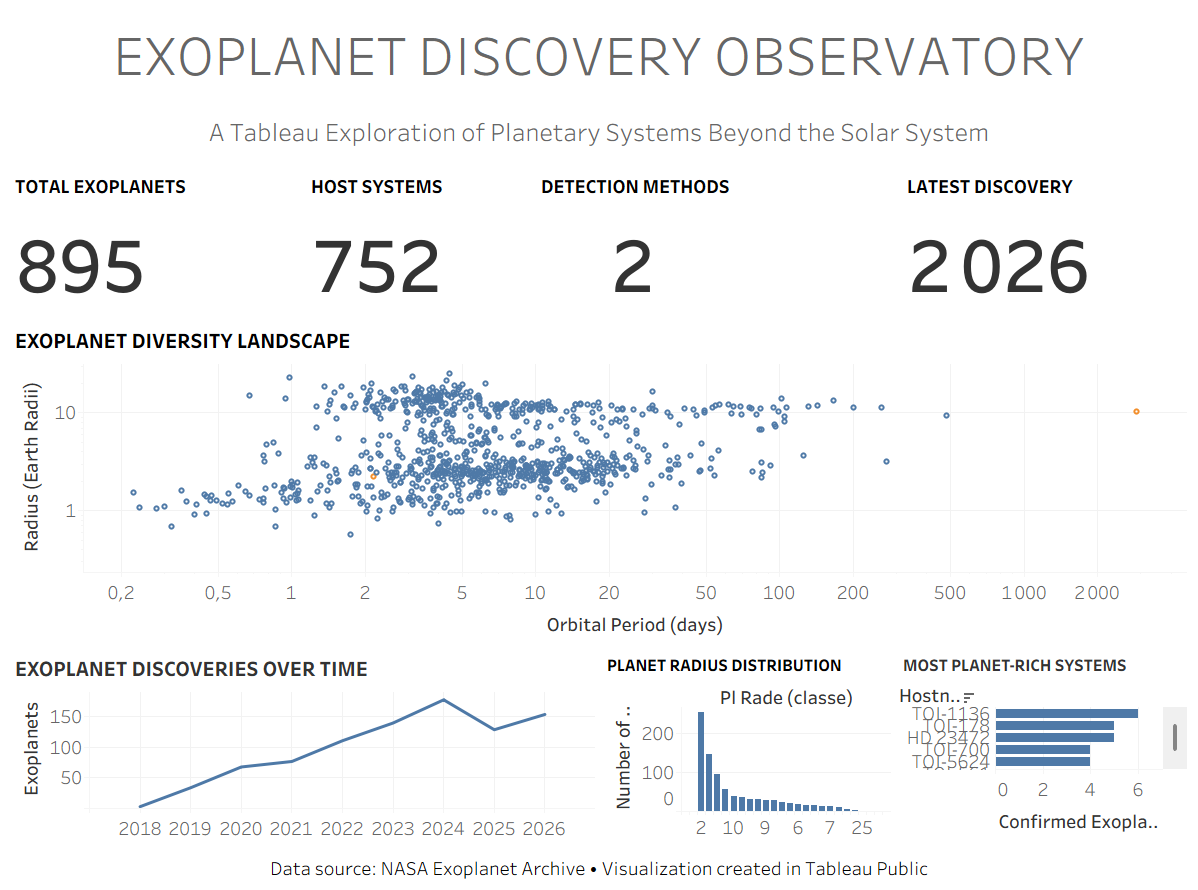

Layout of this report page (visuals, bound fields, positions):
{"tool":"tableau","page":{"name":"Tableau de bord 1","canvas":[1200,900],"ordinal":0},"visuals":[{"type":"text","box":[8,8,1184,154.3]},{"type":"text","box":[8,162.3,296,49.1]},{"type":"text","box":[304,162.3,230,49.1]},{"type":"text","box":[534,162.3,366,49.1]},{"type":"text","box":[900,162.3,292,49.1]},{"type":"worksheet","title":"Total Exoplanets","mark":"Automatic","box":[8,211,296,108]},{"type":"worksheet","title":"Host Systems","mark":"Automatic","box":[304,211,296,108]},{"type":"worksheet","title":"Discovery Methods","mark":"Automatic","box":[600,211,296,108]},{"type":"worksheet","title":"Latest Discovery","mark":"Automatic","box":[896,211,296,108]},{"type":"worksheet","title":"Planets Landscape","mark":"Automatic","rows":["pl_rade"],"cols":["pl_orbper"],"box":[8,318.7,1184,328.8]},{"type":"worksheet","title":"Discovery Timeline","mark":"Automatic","rows":["pl_name"],"cols":["disc_year"],"box":[8,647.4,592,197.6]},{"type":"worksheet","title":"Radius Distribution","mark":"Automatic","rows":["pl_name"],"cols":["Pl Rade (classe)"],"box":[600,647.4,296,197.6]},{"type":"worksheet","title":"Most Planet-Rich Systems","mark":"Automatic","rows":["hostname"],"cols":["pl_name"],"box":[896,647.4,296,197.6]},{"type":"text","box":[8,845,1184,47]}]}

Visuals, with their boxes in screenshot pixels (x1, y1, x2, y2), scaled from the page's 1200x900 canvas onto the 1198x890 screenshot:
text: <bbox>8, 8, 1190, 160</bbox>
text: <bbox>8, 160, 303, 209</bbox>
text: <bbox>303, 160, 533, 209</bbox>
text: <bbox>533, 160, 898, 209</bbox>
text: <bbox>898, 160, 1190, 209</bbox>
"Total Exoplanets" worksheet: <bbox>8, 209, 303, 315</bbox>
"Host Systems" worksheet: <bbox>303, 209, 599, 315</bbox>
"Discovery Methods" worksheet: <bbox>599, 209, 895, 315</bbox>
"Latest Discovery" worksheet: <bbox>895, 209, 1190, 315</bbox>
"Planets Landscape" worksheet: <bbox>8, 315, 1190, 640</bbox>
"Discovery Timeline" worksheet: <bbox>8, 640, 599, 836</bbox>
"Radius Distribution" worksheet: <bbox>599, 640, 895, 836</bbox>
"Most Planet-Rich Systems" worksheet: <bbox>895, 640, 1190, 836</bbox>
text: <bbox>8, 836, 1190, 882</bbox>
